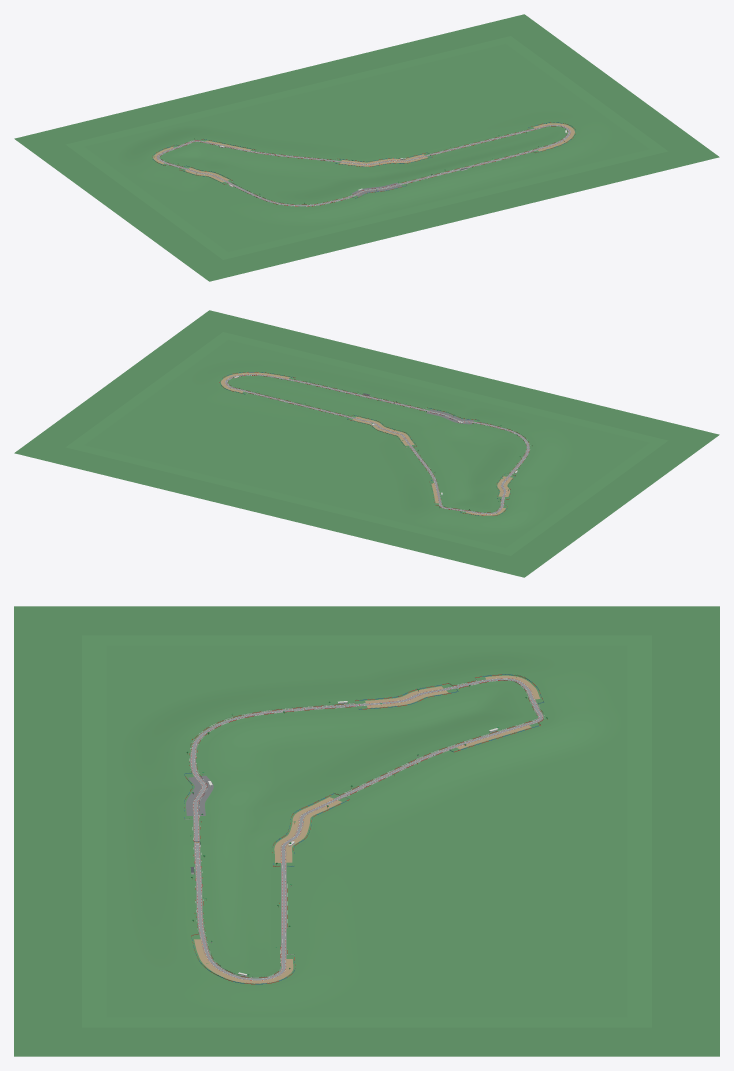
The model's file is monza.glb.
3 views of the same model, one above another, from view 1: azimuth 30°, elevation 25°; view 2: azimuth 150°, elevation 25°; view 3: azimuth 270°, elevation 25° (orthographic). The views are drawn at different scales.
Visible parts, largest first — view 1: terrain_infield, terrain_outskirts, terrain_verge, track_embankment, track_surface, continuous_safety_barriers, track_runoff, gravel_runoff_zones; view 2: terrain_infield, terrain_outskirts, terrain_verge, track_embankment, track_surface, track_runoff, gravel_runoff_zones, continuous_safety_barriers; view 3: terrain_infield, terrain_outskirts, terrain_verge, track_embankment, track_surface, gravel_runoff_zones, track_runoff, continuous_safety_barriers, track_curbs.
Boxes of the visible parts, x1=… form: terrain_infield: x1=84, y1=44, x2=649, y2=251; terrain_outskirts: x1=14, y1=14, x2=719, y2=281; terrain_verge: x1=65, y1=36, x2=668, y2=259; track_embankment: x1=150, y1=122, x2=576, y2=208; track_surface: x1=157, y1=125, x2=570, y2=206; continuous_safety_barriers: x1=153, y1=122, x2=575, y2=206; track_runoff: x1=156, y1=124, x2=570, y2=206; gravel_runoff_zones: x1=153, y1=123, x2=574, y2=182; terrain_infield: x1=84, y1=340, x2=649, y2=547; terrain_outskirts: x1=14, y1=310, x2=719, y2=577; terrain_verge: x1=65, y1=332, x2=668, y2=555; track_embankment: x1=219, y1=372, x2=535, y2=516; track_surface: x1=225, y1=374, x2=529, y2=514; track_runoff: x1=226, y1=374, x2=529, y2=514; gravel_runoff_zones: x1=221, y1=372, x2=512, y2=515; continuous_safety_barriers: x1=219, y1=372, x2=528, y2=515; terrain_infield: x1=106, y1=645, x2=627, y2=1017; terrain_outskirts: x1=14, y1=606, x2=719, y2=1056; terrain_verge: x1=82, y1=635, x2=651, y2=1027; track_embankment: x1=180, y1=673, x2=553, y2=984; track_surface: x1=191, y1=678, x2=542, y2=980; gravel_runoff_zones: x1=194, y1=675, x2=540, y2=983; track_runoff: x1=190, y1=678, x2=543, y2=980; continuous_safety_barriers: x1=184, y1=674, x2=544, y2=984; track_curbs: x1=191, y1=678, x2=542, y2=980.
Size of the model in its own units: 3448 by 22.93 by 2286.
